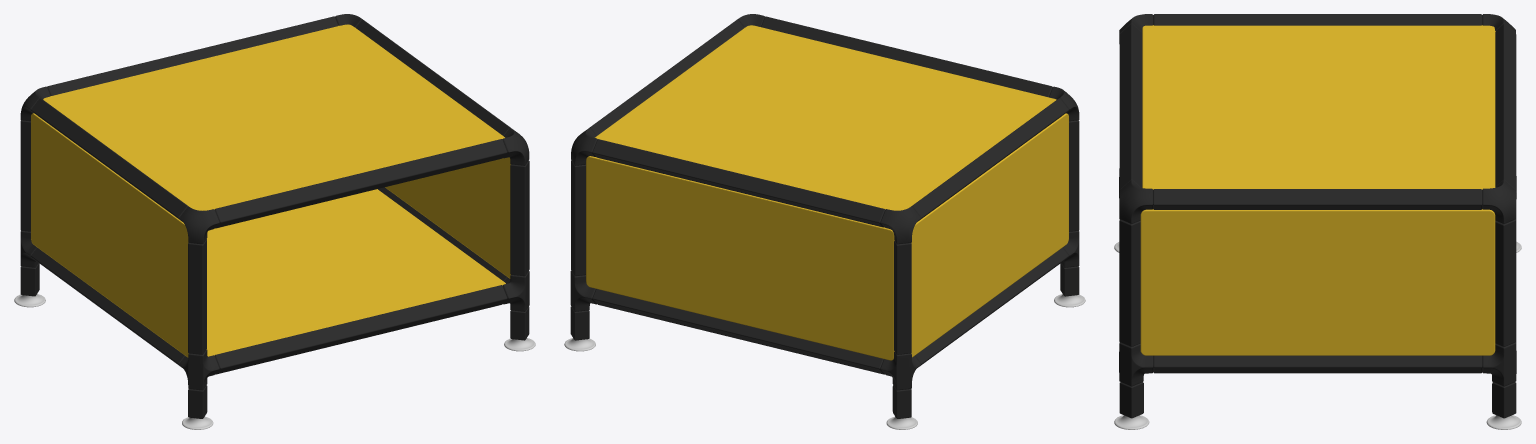
The picture shows the model from 3 angles, left to right: view 1: azimuth 30°, elevation 25°; view 2: azimuth 150°, elevation 25°; view 3: azimuth 270°, elevation 25°; orthographic projection. The views are drawn at different scales.
Visible parts, largest first — view 1: 420x374x154; view 2: 420x374x154; view 3: 420x374x154.
Boxes of the visible parts, x1,y1,x2,y2 form: 420x374x154: (14,14,535,429); 420x374x154: (564,14,1085,429); 420x374x154: (1114,14,1521,429).
Bounding box in the file's own units: 0.5099 × 0.2933 × 0.4632.
